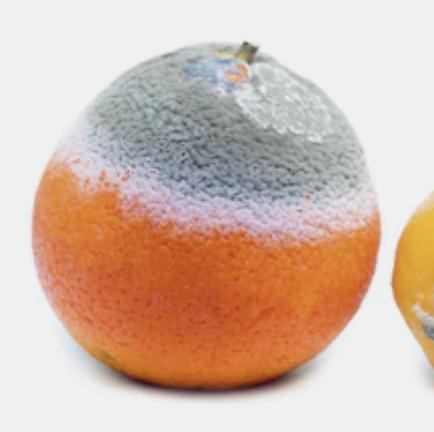Orange Rotten: (24, 26, 404, 406)
